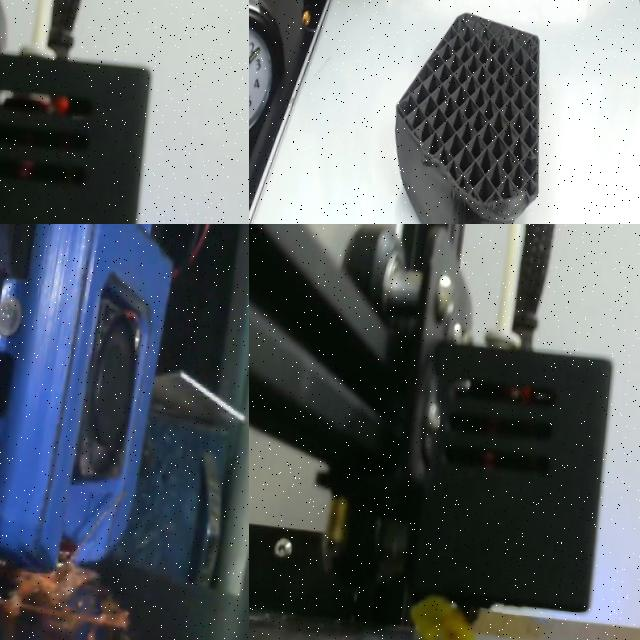spaghetti: (0, 559, 130, 640), (404, 589, 504, 640)
